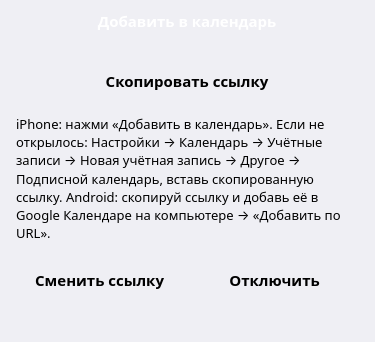
Scenario: раздел «Календарь» › «Скопировать ссылку» без navigator.clipboard показывает ссылку текстом, а не молчит
This screenshot has width=375, height=342.
Click the button "Скопировать ссылку": (187, 81) [16,59,358,103]
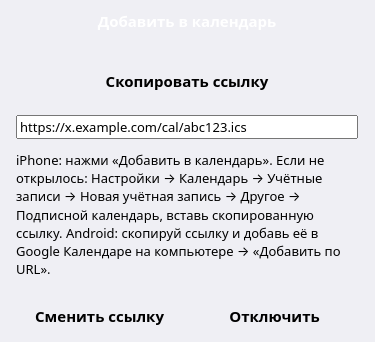
expect the field named "Ссылка на календарь" holds "https://x.example.com/cal/abc123.ics": met, box [16,115,358,139]
